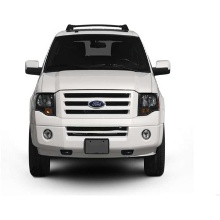no damage: (25, 24, 170, 177)
